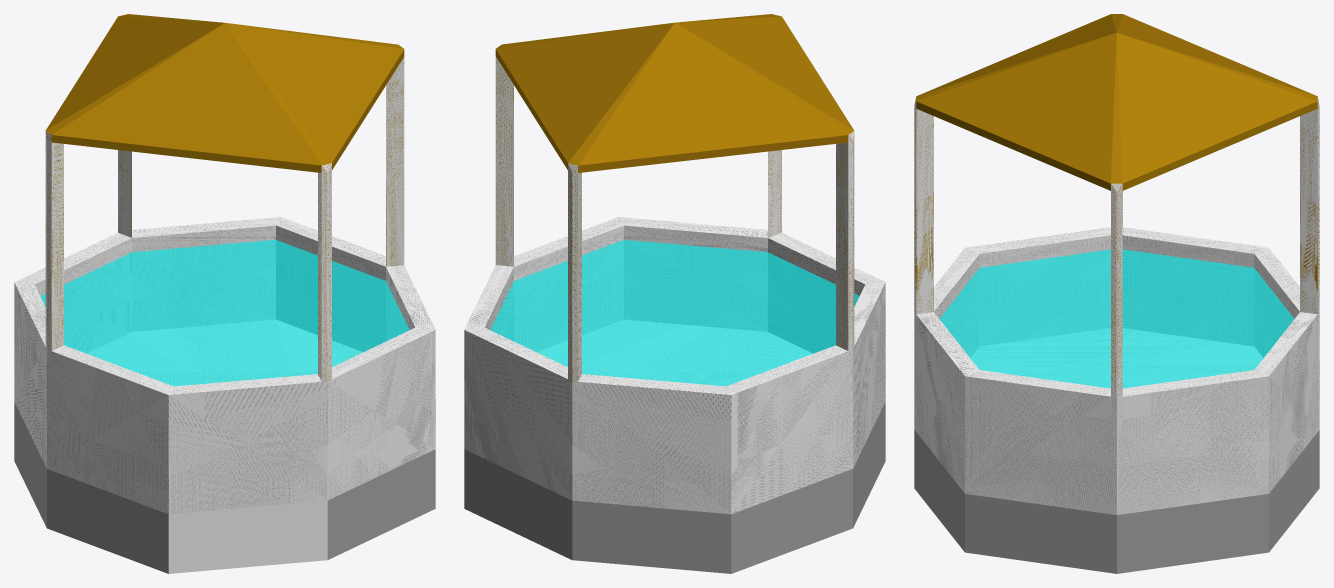
File: well.dae
The picture shows the model from 3 angles, left to right: view 1: azimuth 30°, elevation 25°; view 2: azimuth 150°, elevation 25°; view 3: azimuth 270°, elevation 25°; orthographic projection.
Visible parts, largest first — view 1: SketchUp (×4); view 2: SketchUp (×3); view 3: SketchUp (×3).
Part boxes in pixels (x1,y1,x2,y2): SketchUp (×4): (14,14,435,573); SketchUp (×3): (464,14,885,573); SketchUp (×3): (914,14,1319,573).
Size of the model in its own units: 98.43 by 98.43 by 122.
